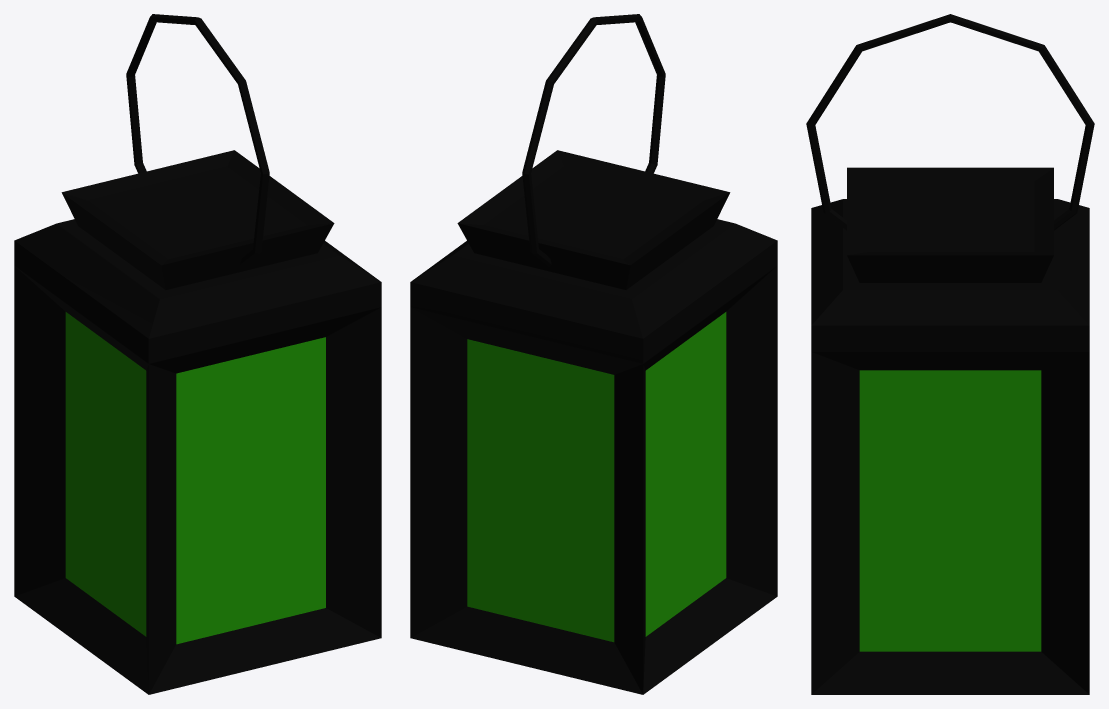
The model's file is Lantern_KW.fbx.
3 views of the same model, side by side, from view 1: azimuth 30°, elevation 25°; view 2: azimuth 150°, elevation 25°; view 3: azimuth 270°, elevation 25° (orthographic). The views are drawn at different scales.
Parts seen in each view (by area): view 1: Lantern_KW; view 2: Lantern_KW; view 3: Lantern_KW.
Part boxes in pixels (<box>): Lantern_KW: <box>14,14,381,694</box>; Lantern_KW: <box>410,14,777,694</box>; Lantern_KW: <box>806,14,1094,694</box>.
Bounding box in the file's own units: 20.54 × 50.6 × 21.27.
